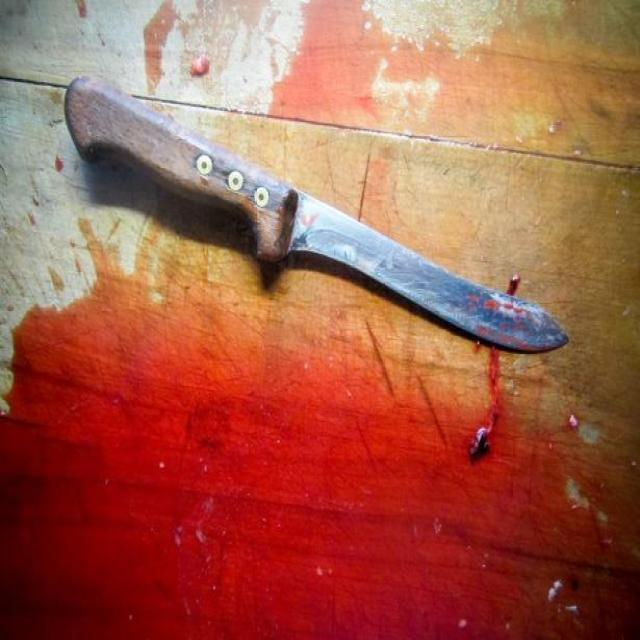flood: (0, 245, 637, 640)
